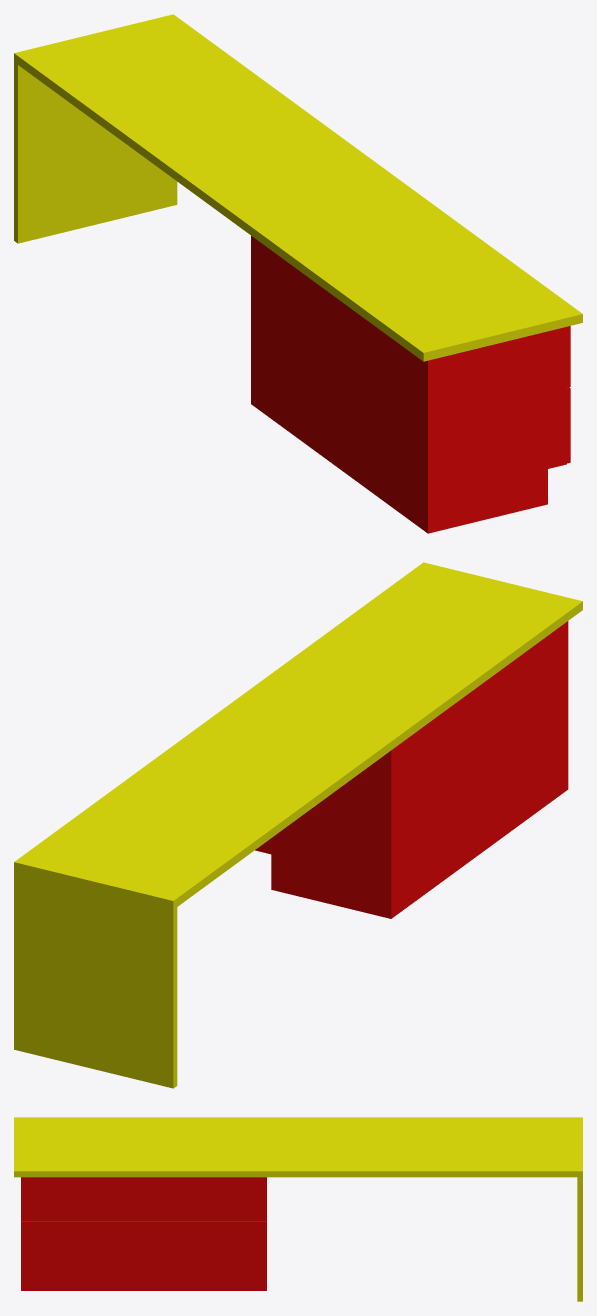
3 views of the same model, one above another, from view 1: azimuth 30°, elevation 25°; view 2: azimuth 150°, elevation 25°; view 3: azimuth 270°, elevation 25° (orthographic). The views are drawn at different scales.
Visible parts, largest first — view 1: polySurface155; view 2: polySurface155; view 3: polySurface155.
Part boxes in pixels (box(x1,y1,x2,y2)): polySurface155: box(14, 14, 582, 533); polySurface155: box(14, 562, 582, 1088); polySurface155: box(14, 1117, 582, 1301).
Bounding box in the file's own units: 83.68 × 94.05 × 372.
